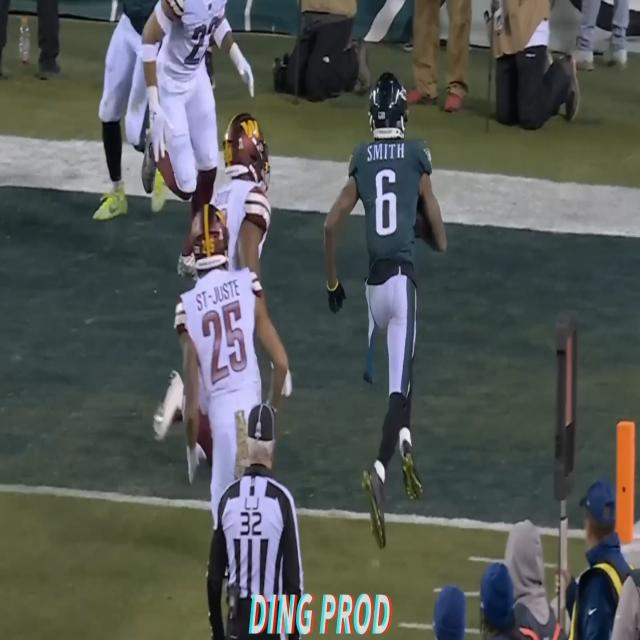players: (330, 60, 428, 528), (185, 227, 271, 619), (107, 0, 241, 234), (207, 109, 274, 283)
